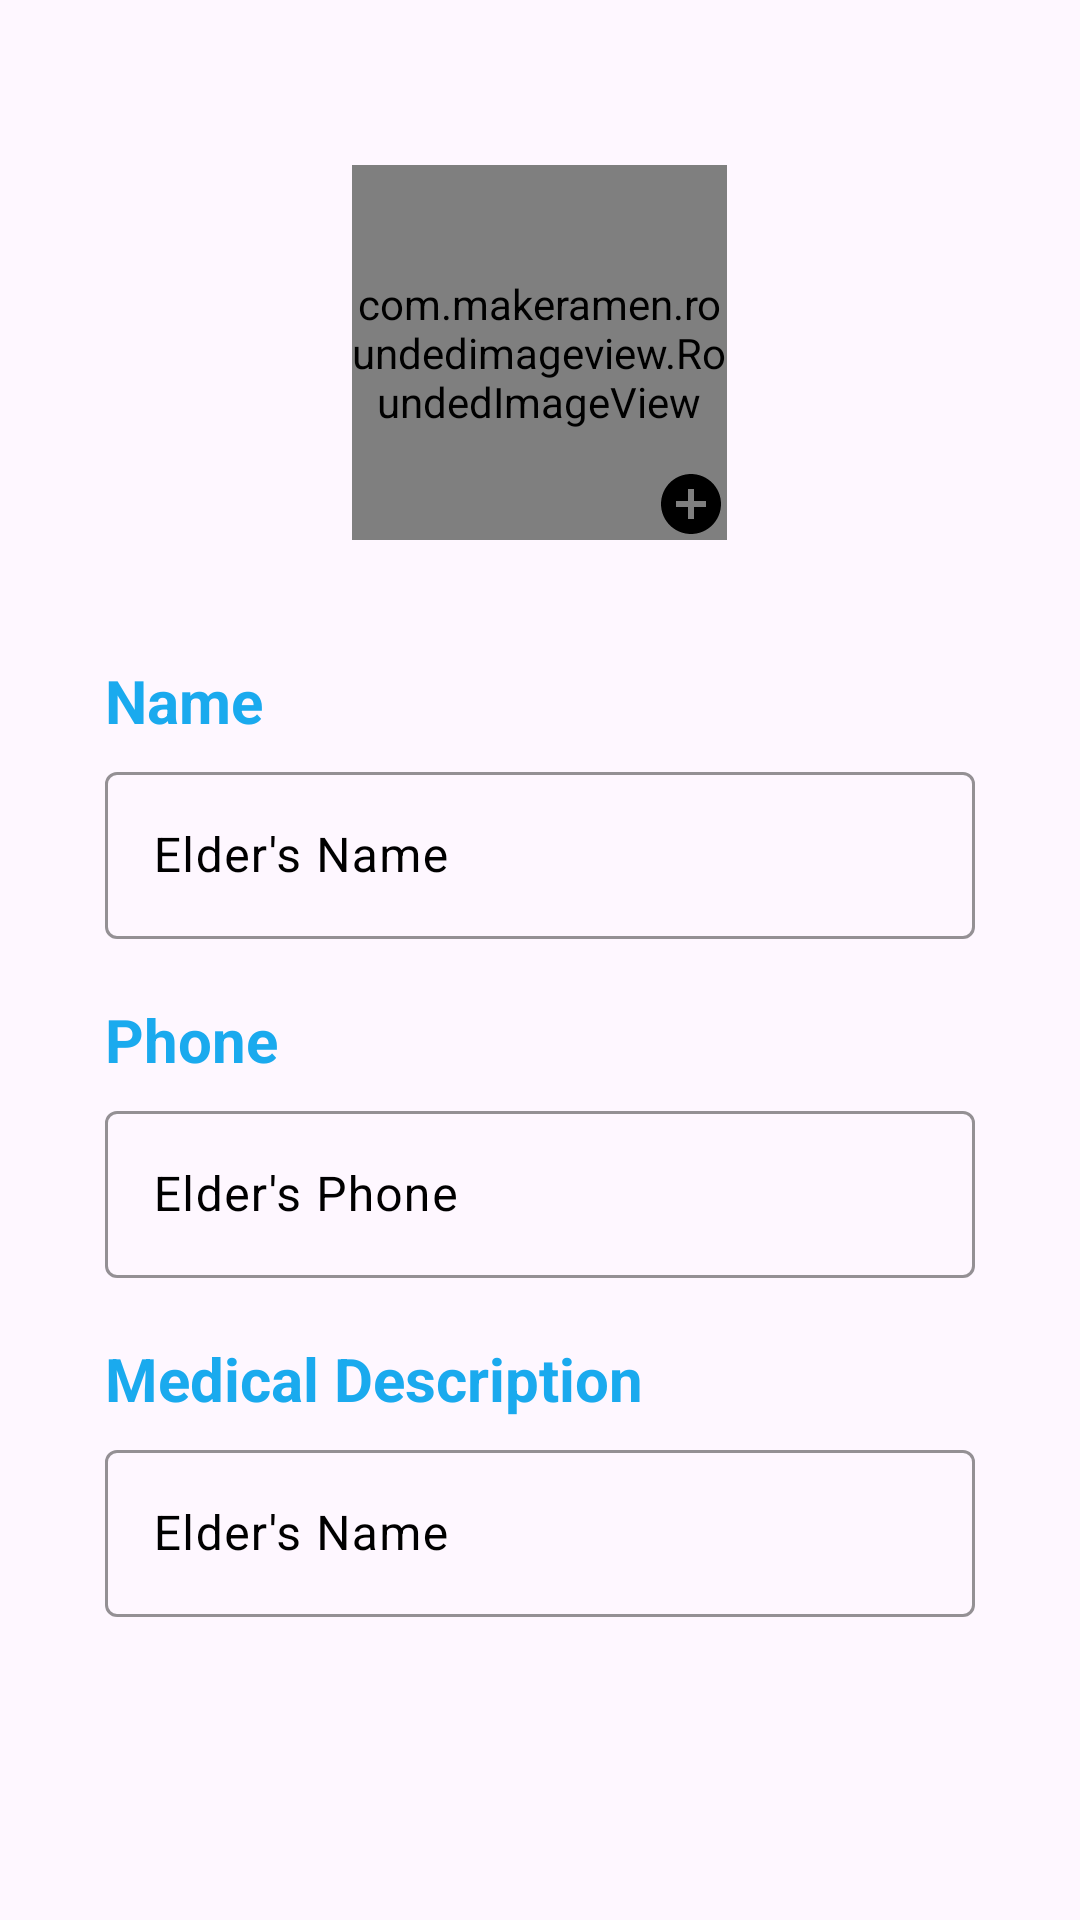

Screen size 1080x1920. Icon name, then its center in pixels as (x,y):
add circle: (691,504)
